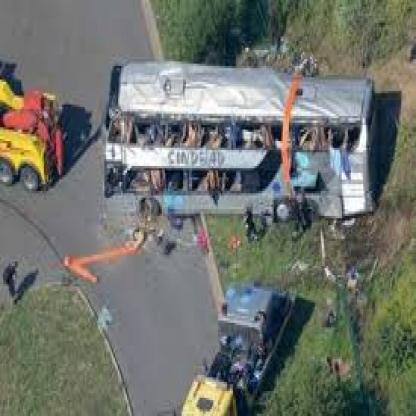accident: (76, 49, 396, 259)
